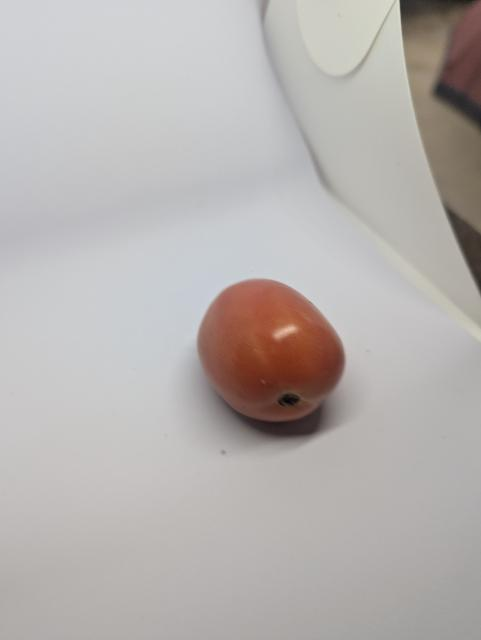red: (196, 275, 356, 439)
